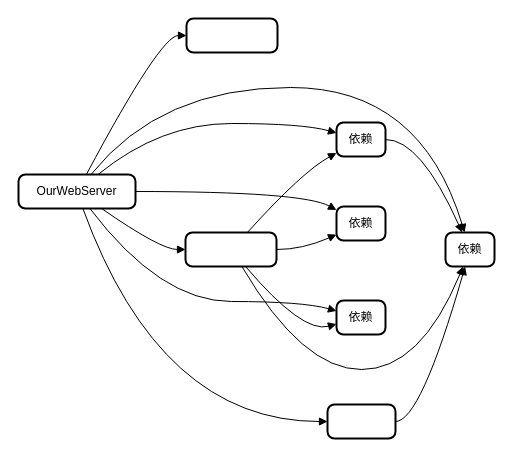
Some shapes in this 512 by 456 pixel diagram are drawn without their labels. The centre of each missing label's shape, as x and y in pixels:
config模块: [231,35]
log模块: [361,421]
server模块: [230,249]
